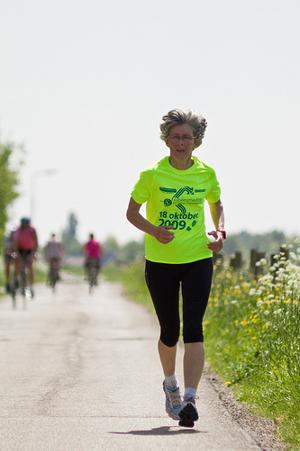person: (125, 109, 228, 426)
